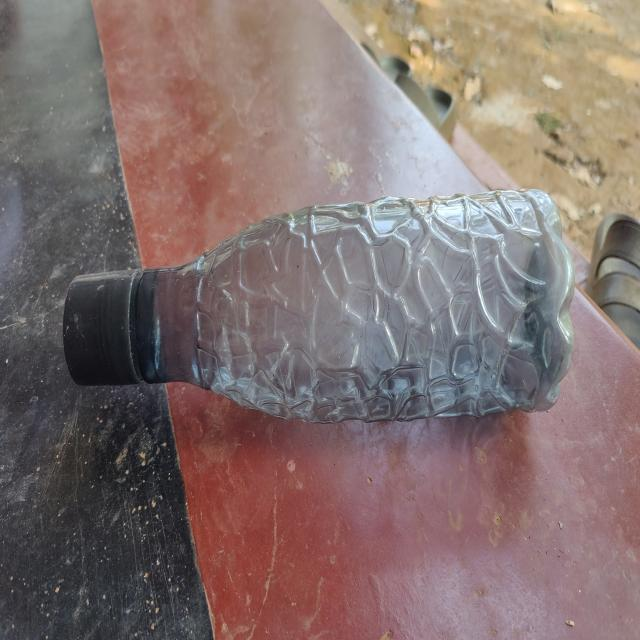plastic: (64, 183, 576, 420)
